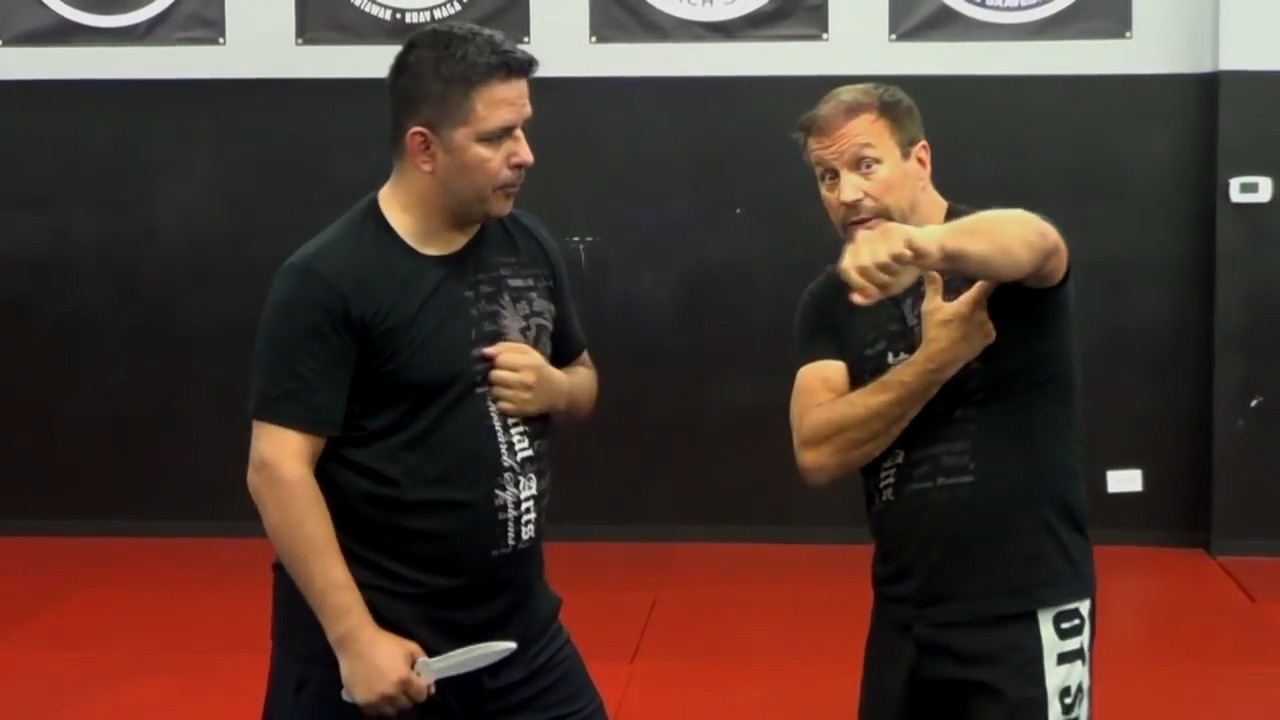knife: (331, 627, 528, 711)
